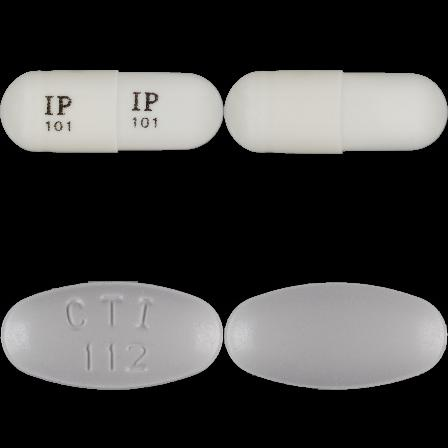63739-675: (0, 0, 224, 224)
